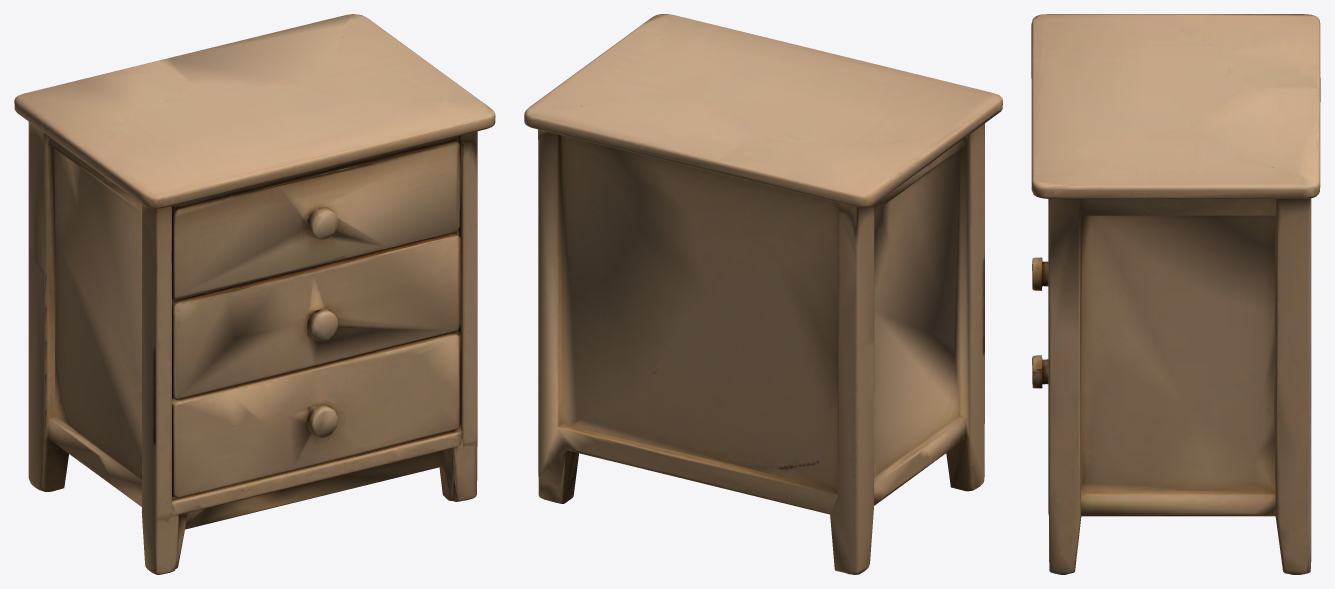
The model's file is dresser-lite.glb.
3 views of the same model, side by side, from view 1: azimuth 30°, elevation 25°; view 2: azimuth 150°, elevation 25°; view 3: azimuth 270°, elevation 25° (orthographic). The views are drawn at different scales.
Parts seen in each view (by area): view 1: node_0; view 2: node_0; view 3: node_0.
Boxes of the visible parts, bbox=[...] form: node_0: bbox=[14, 14, 495, 574]; node_0: bbox=[524, 14, 1002, 574]; node_0: bbox=[1031, 14, 1320, 574].
Bounding box in the file's own units: 0.7554 × 0.8015 × 0.5286.
1 material, 1 textured.
